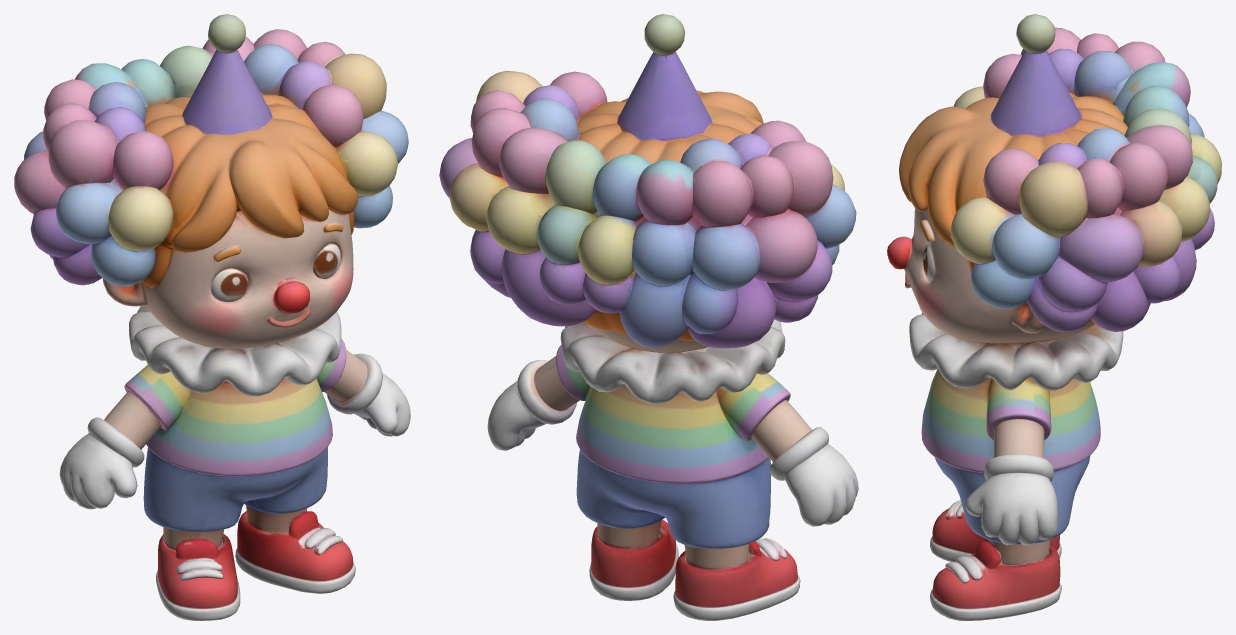
The model's file is npc_clown.glb.
3 views of the same model, side by side, from view 1: azimuth 30°, elevation 25°; view 2: azimuth 150°, elevation 25°; view 3: azimuth 270°, elevation 25° (orthographic). The views are drawn at different scales.
Visible parts, largest first — view 1: node_0; view 2: node_0; view 3: node_0.
Part boxes in pixels (x1,y1,x2,y2): node_0: (14,14,410,620); node_0: (439,14,858,620); node_0: (887,14,1221,620).
Size of the model in its own units: 0.7167 by 1.09 by 0.5887.
1 material, 1 textured.
